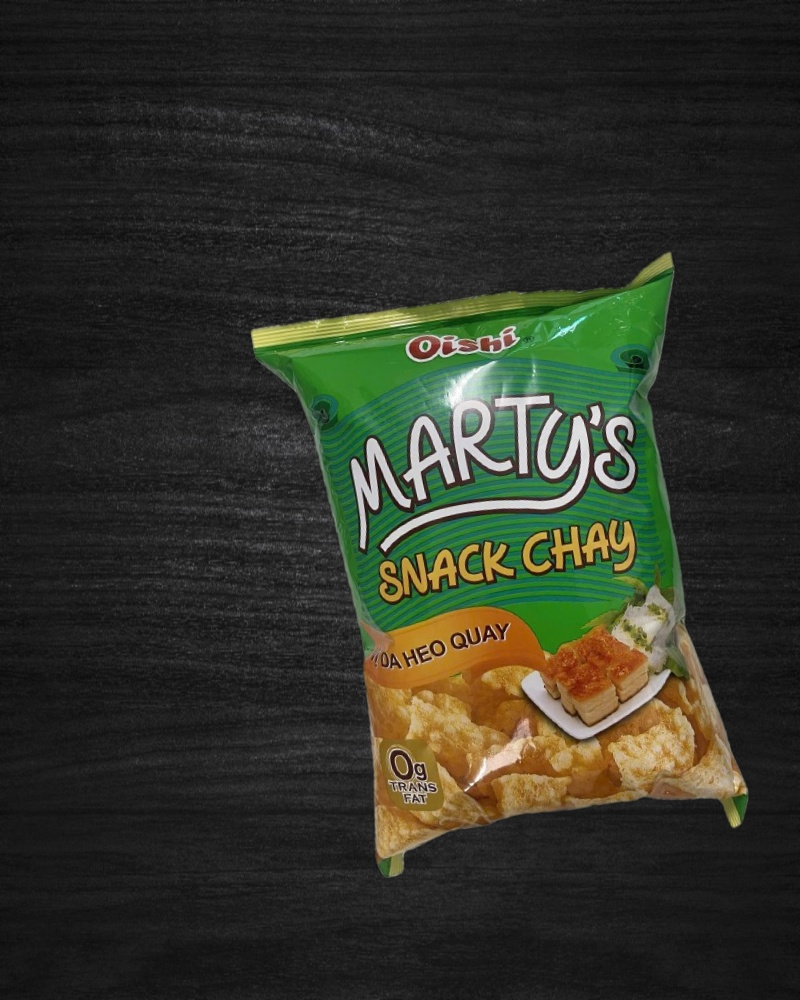Snack chay: (250, 251, 773, 897)
